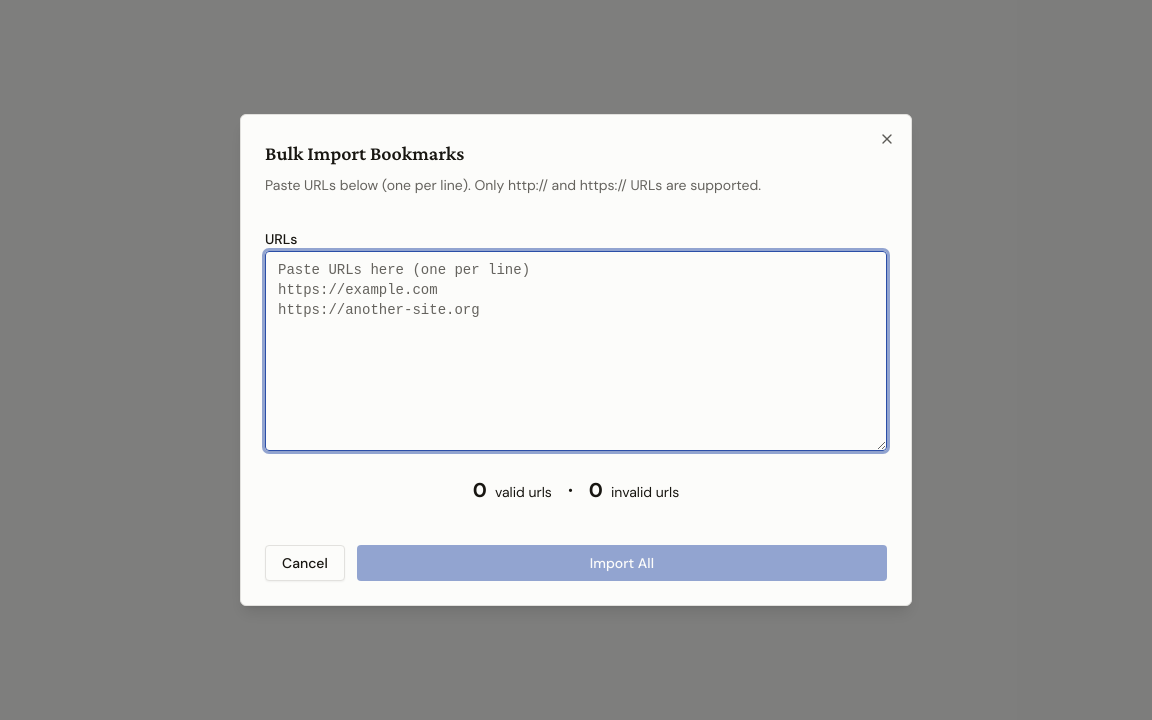
Test case: BulkImportModal › Error State › shows error message on failure
Type "https://example.com" into the text box with placeholder "Paste URLs".
click(576, 351); type("https://example.com")  # box [265,251,887,451]
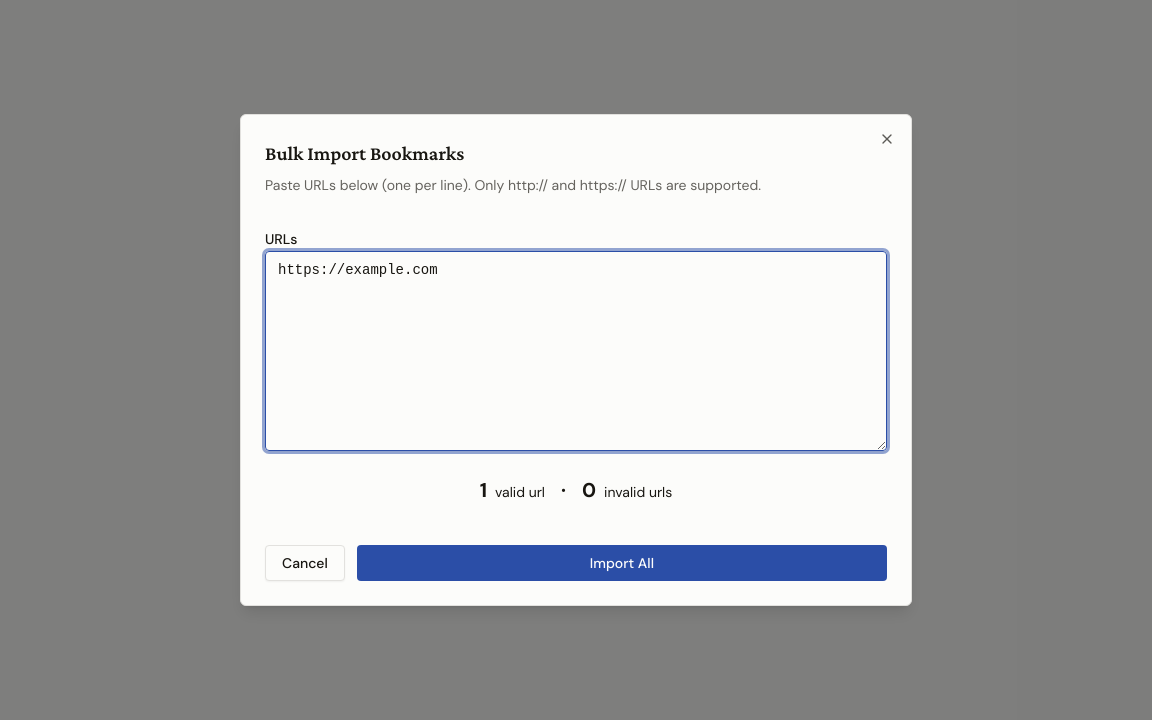
Click the button "Import All".
click(622, 563)  # box [357,545,887,581]
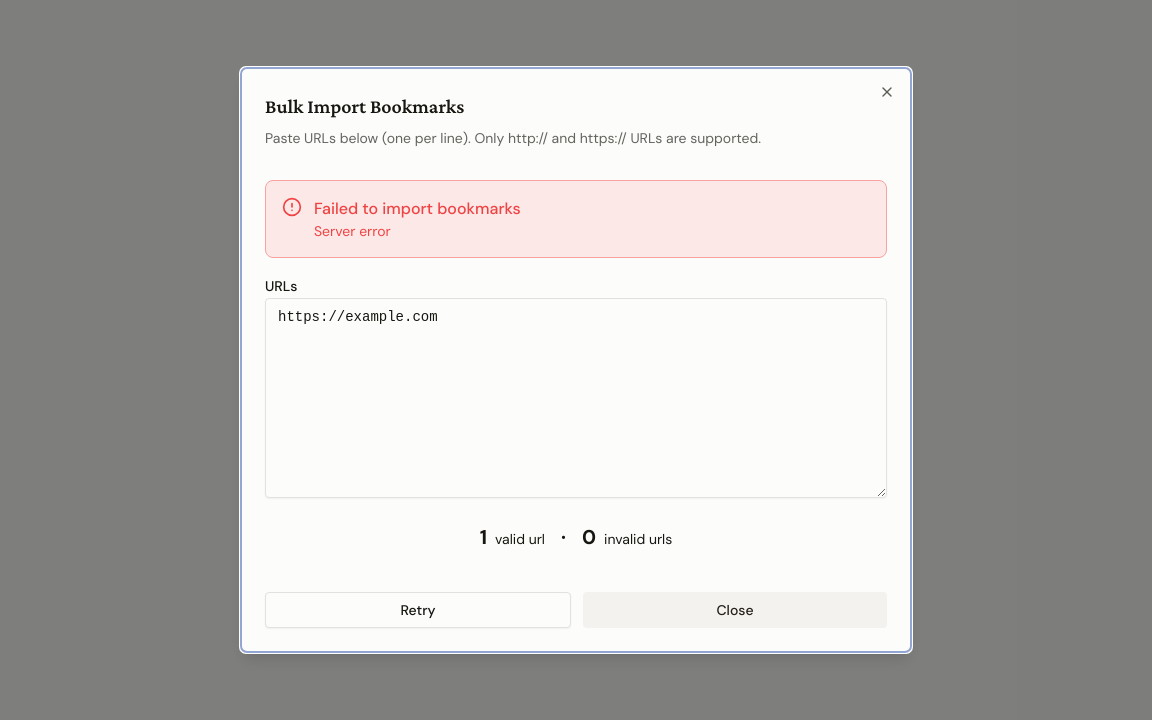
Check: the text "Failed to import bookmarks" is shown, box [314,198,521,219]
